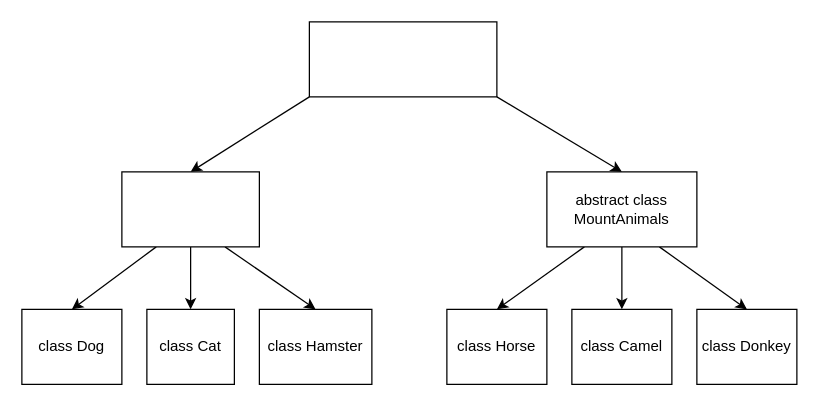
Image size: 819x406. Some labels were removed from this diagram. The shapes that lost their labels are listed below. From the top down, each one's centre as x and y in pixels, then its label:
the point at 402,59: abstract class Animals
the point at 190,209: abstract class HomeAnimals
